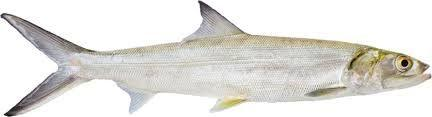Tenpounder: (1, 0, 431, 117)
